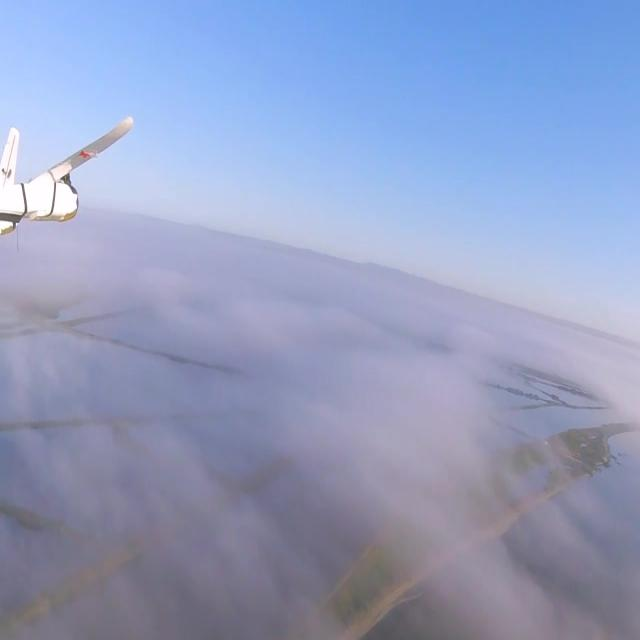iha: (0, 113, 69, 241)
